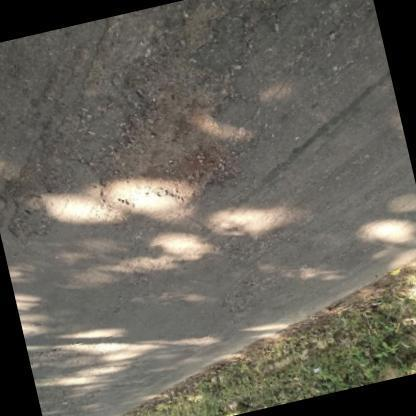pothole: (87, 42, 241, 222)
